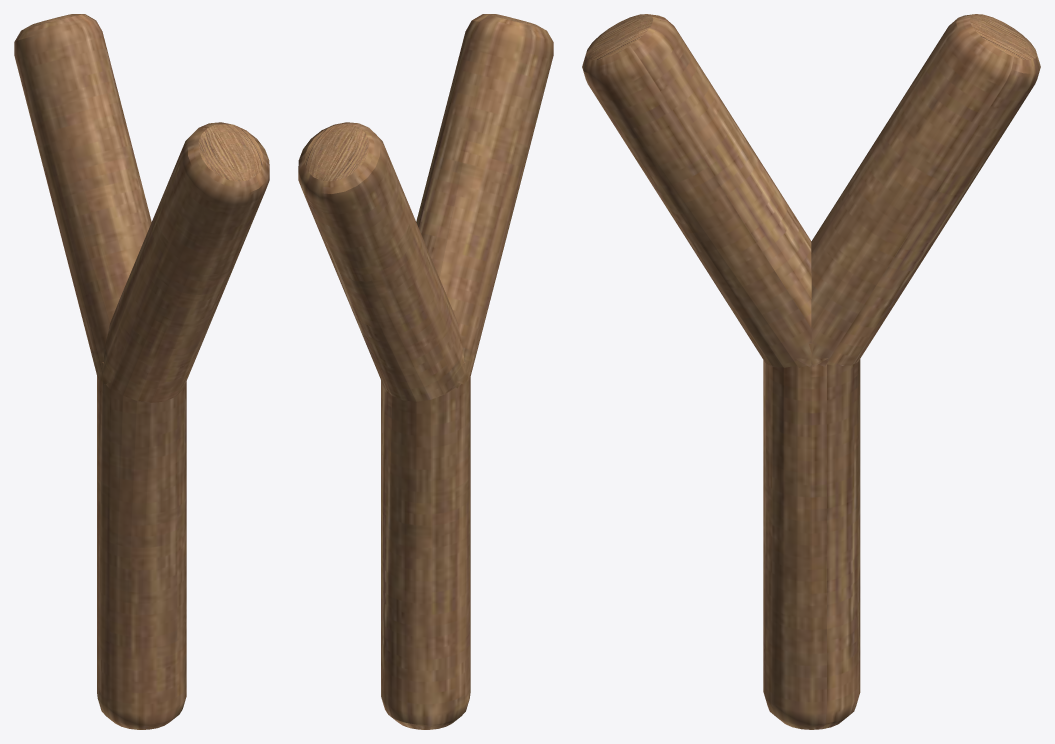
File: sapan.fbx
The picture shows the model from 3 angles, left to right: view 1: azimuth 30°, elevation 25°; view 2: azimuth 150°, elevation 25°; view 3: azimuth 270°, elevation 25°; orthographic projection. The views are drawn at different scales.
Visible parts, largest first — view 1: pCylinder71; view 2: pCylinder71; view 3: pCylinder71.
Boxes of the visible parts, x1,y1,x2,y2 form: pCylinder71: (14, 14, 269, 729); pCylinder71: (298, 14, 553, 729); pCylinder71: (582, 14, 1040, 729).
Bounding box in the file's own units: 7.51 × 59.31 × 35.21.
1 material, 1 textured.
